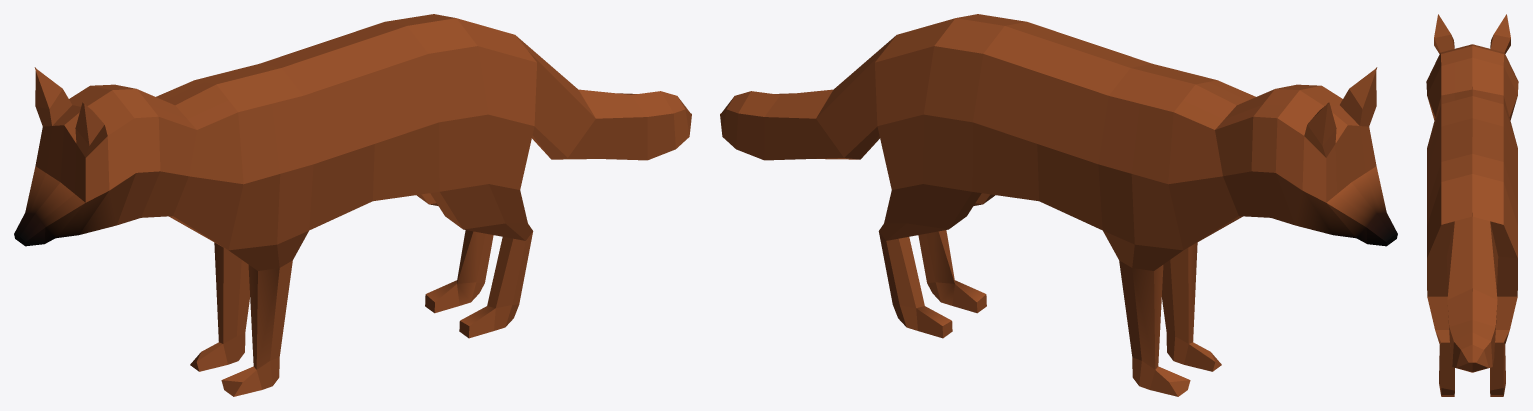
The model's file is lis.fbx.
The picture shows the model from 3 angles, left to right: view 1: azimuth 30°, elevation 25°; view 2: azimuth 150°, elevation 25°; view 3: azimuth 270°, elevation 25°; orthographic projection. The views are drawn at different scales.
Parts seen in each view (by area): view 1: Plane; view 2: Plane; view 3: Plane.
Boxes of the visible parts, left/top/right/bottom form: Plane: left=14, top=14, right=691, bottom=396; Plane: left=720, top=14, right=1397, bottom=396; Plane: left=1426, top=14, right=1518, bottom=396.
Size of what is drawn, in the model's own units: 811 by 386 by 136.
